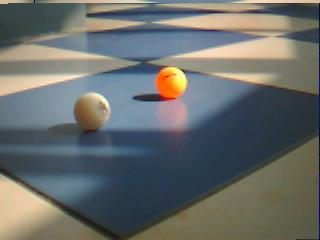oball: (155, 67, 188, 98)
